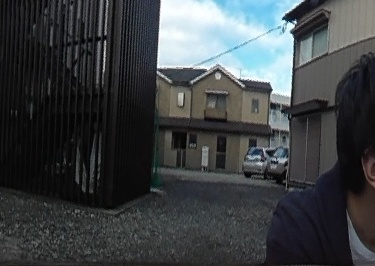person: (267, 40, 375, 266)
